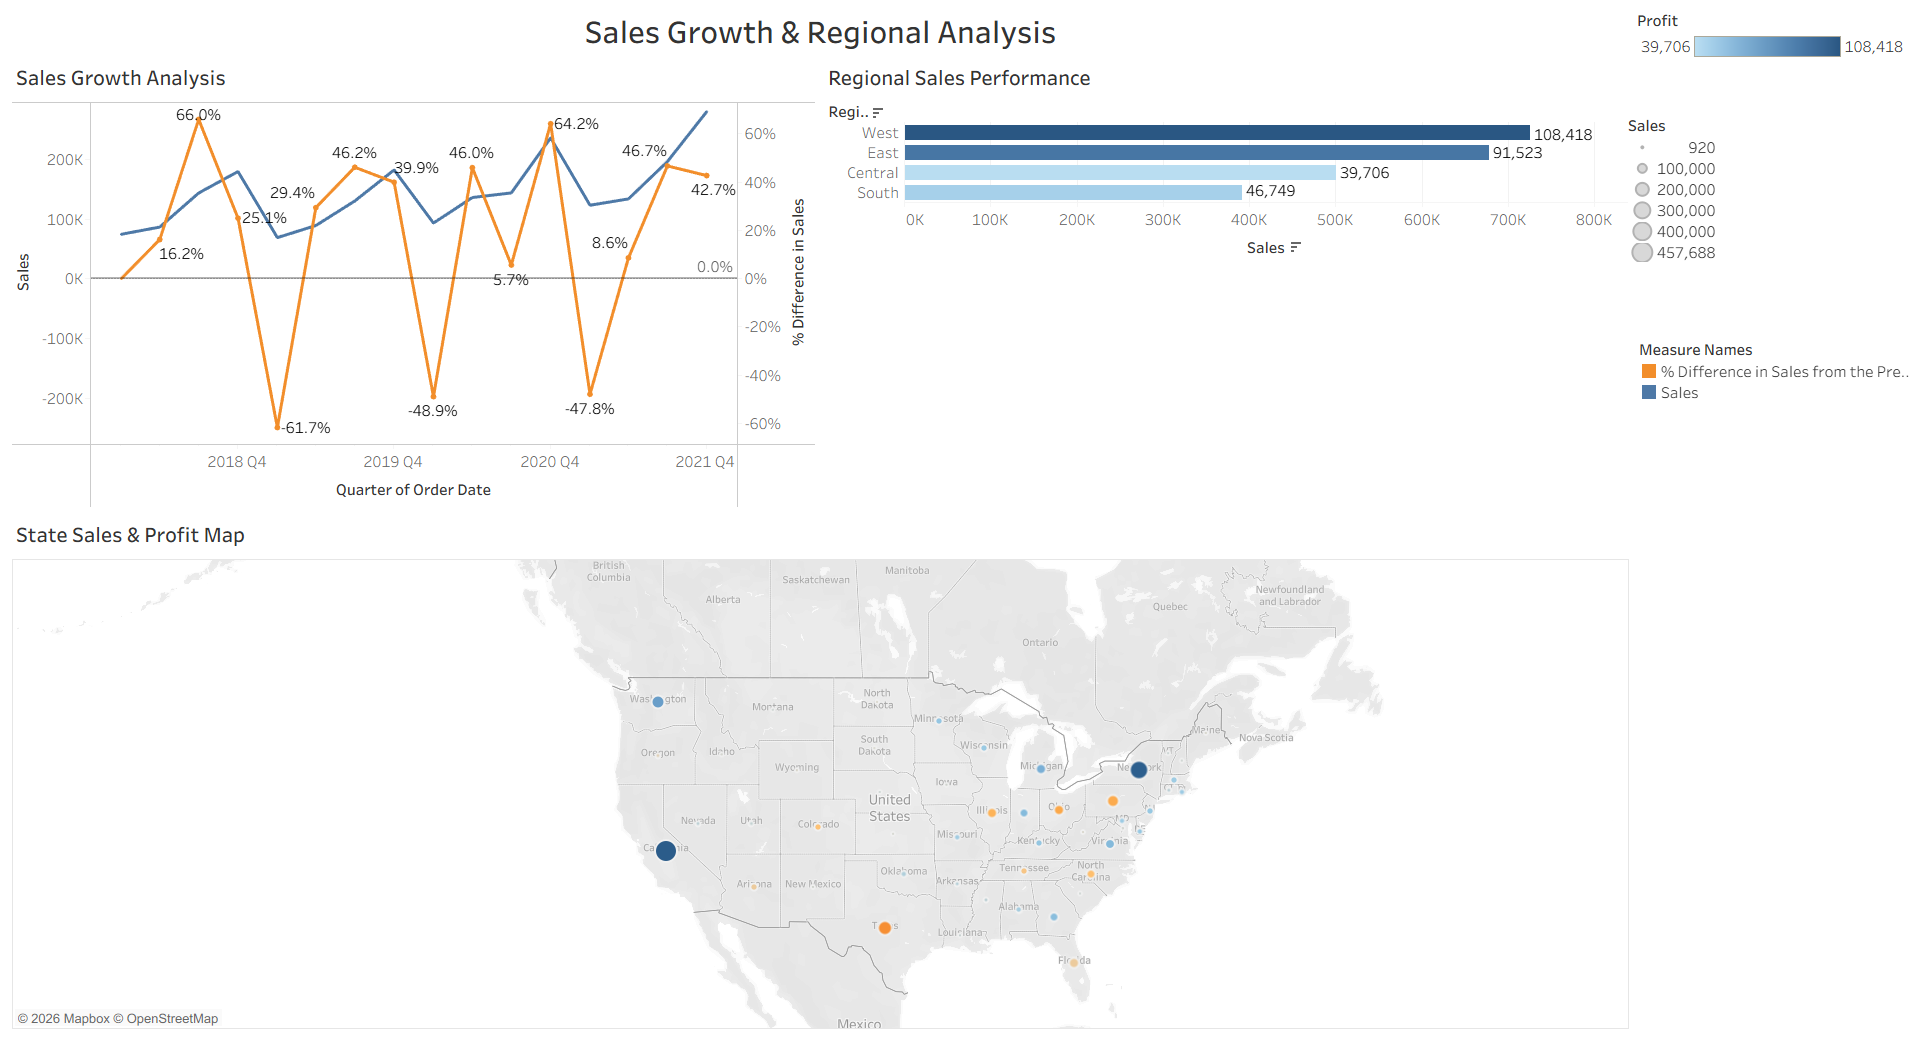

The dashboard page shown, as its layout file describes it:
{"tool":"tableau","page":{"name":"Sales Growth & Regional Analysis","canvas":[1000,1000],"units":"permille","ordinal":4},"visuals":[{"type":"title","box":[9.7,9.5,836.8,58.3]},{"type":"legend","title":"Regional Sales Performance","param":"[federated.07t9vp60klim5p0znt99z1xn62fo].[sum:Profit:qk]","box":[846.5,9.5,143.8,86.8]},{"type":"worksheet","title":"Sales Growth Analysis","mark":"Line","rows":["Sales","Sales"],"cols":["Order Date"],"box":[9.7,67.8,418.4,431.3]},{"type":"worksheet","title":"Regional Sales Performance","mark":"Automatic","rows":["Region"],"cols":["Sales"],"box":[428,67.8,418.4,431.3]},{"type":"legend","title":"State Sales & Profit Map","param":"[federated.07t9vp60klim5p0znt99z1xn62fo].[sum:Sales:qk]","box":[847.7,111.8,146.2,173.6]},{"type":"legend","title":"Sales Growth Analysis","param":"[federated.07t9vp60klim5p0znt99z1xn62fo].[:Measure Names]","box":[853.8,327,143.7,80.9]},{"type":"worksheet","title":"State Sales & Profit Map","mark":"Automatic","box":[9.7,499.1,836.8,491.4]}]}

Visuals, with their boxes on the dashboard's canvas, which has no fixed pixel size, in thousandths of its width and height (x1, y1, x2, y2). These are canvas units, not pixel positions in the 1917x1037 screenshot, which may show the page scaled, cropped or inside an application window:
title: x1=10 y1=10 x2=846 y2=68
"Regional Sales Performance" legend: x1=846 y1=10 x2=990 y2=96
"Sales Growth Analysis" worksheet (Line marks): x1=10 y1=68 x2=428 y2=499
"Regional Sales Performance" worksheet: x1=428 y1=68 x2=846 y2=499
"State Sales & Profit Map" legend: x1=848 y1=112 x2=994 y2=285
"Sales Growth Analysis" legend: x1=854 y1=327 x2=998 y2=408
"State Sales & Profit Map" worksheet: x1=10 y1=499 x2=846 y2=990
